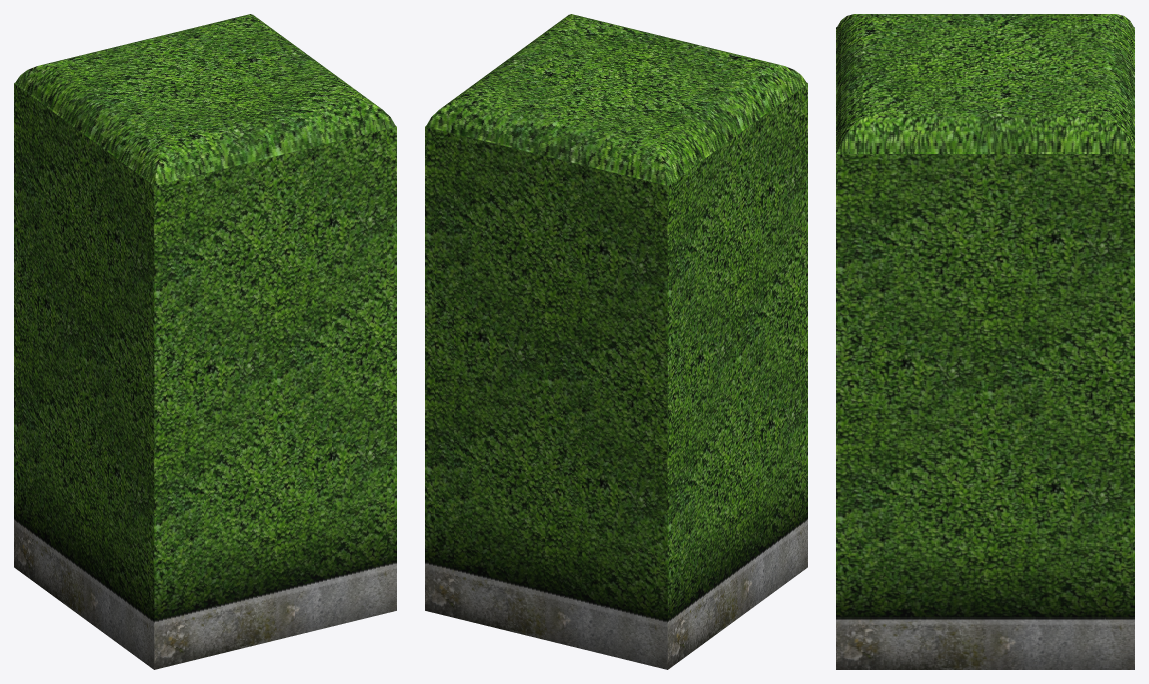
Rendered from MODEL_hedge_chunk.glb.
3 renders of one model, left to right at view 1: azimuth 30°, elevation 25°; view 2: azimuth 150°, elevation 25°; view 3: azimuth 270°, elevation 25°, orthographic. The views are drawn at different scales.
Visible parts, largest first — view 1: Cube; view 2: Cube; view 3: Cube.
Part boxes in pixels (left/top/right/bottom): Cube: left=14, top=14, right=396, bottom=669; Cube: left=425, top=14, right=807, bottom=669; Cube: left=836, top=14, right=1134, bottom=669.
Size of the model in its own units: 0.8 by 1.6 by 0.8.
Materials: 1 (1 with a texture image).
